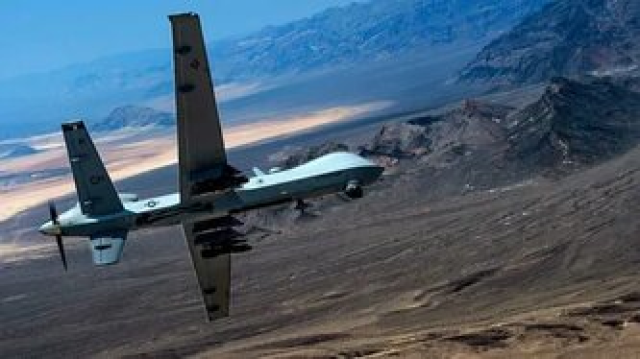military drone: (38, 11, 383, 322)
